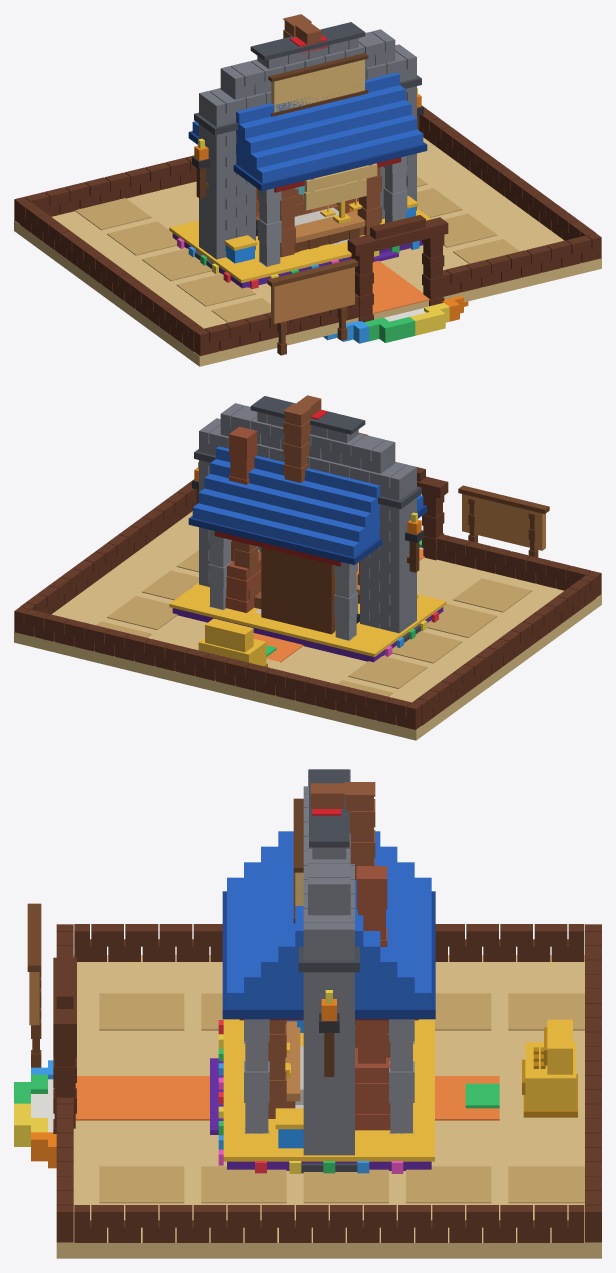
Rendered from Lobby.fbx.
The picture shows the model from 3 angles, top to bottom: view 1: azimuth 30°, elevation 25°; view 2: azimuth 150°, elevation 25°; view 3: azimuth 270°, elevation 25°; orthographic projection. The views are drawn at different scales.
Parts seen in each view (by area): view 1: Parcela_Exhibicion_Borde.003, Parcela_Exhibicion_Terreno, Arco_Entrada_Ladrillo.003, Tienda_Forja_Techo.001, Lugares, Parcela_Exhibicion_Cartel.002, Tienda_Forja_Piedra, Ruleta_Mascotas_EscenarioBorde, Arco_Entrada_Cartel.003, Arco_Entrada_Zocalo, Puesto_Vender_Ladrillo, Tienda_Forja_TechoBorde.001 (+14 smaller); view 2: Parcela_Exhibicion_Borde.003, Parcela_Exhibicion_Terreno, Arco_Entrada_Ladrillo.003, Tienda_Forja_Techo.001, Lugares, Tienda_Forja_Madera.001, Ruleta_Mascotas_EscenarioBorde, Tienda_Forja_Piedra, Tienda_Forja_Ladrillo.001, Parcela_Exhibicion_Cartel.002, Ruleta_Mascotas_Ladrillo.002, Parcela_Exhibicion_Caja (+7 smaller); view 3: Parcela_Exhibicion_Terreno, Parcela_Exhibicion_Borde.003, Lugares, Tienda_Forja_Techo.001, Arco_Entrada_Ladrillo.003, Ruleta_Mascotas_EscenarioBorde, Parcela_Exhibicion_Camino, Tienda_Forja_Ladrillo.001, Tienda_Forja_Piedra, Parcela_Exhibicion_Caja, Arco_Entrada_Zocalo, Ruleta_Mascotas_Ladrillo.002 (+12 smaller).
Part boxes in pixels (<box>): Parcela_Exhibicion_Borde.003: <box>14,107,601,356</box>; Parcela_Exhibicion_Terreno: <box>14,137,601,366</box>; Arco_Entrada_Ladrillo.003: <box>199,29,416,259</box>; Tienda_Forja_Techo.001: <box>192,72,423,183</box>; Lugares: <box>75,176,519,322</box>; Parcela_Exhibicion_Cartel.002: <box>271,267,354,323</box>; Tienda_Forja_Piedra: <box>258,156,407,266</box>; Ruleta_Mascotas_EscenarioBorde: <box>169,208,431,283</box>; Arco_Entrada_Cartel.003: <box>271,59,364,112</box>; Arco_Entrada_Zocalo: <box>194,22,421,268</box>; Puesto_Vender_Ladrillo: <box>256,167,381,257</box>; Tienda_Forja_TechoBorde.001: <box>188,131,427,191</box>; Parcela_Exhibicion_Borde.003: <box>14,464,601,729</box>; Parcela_Exhibicion_Terreno: <box>14,511,601,740</box>; Arco_Entrada_Ladrillo.003: <box>199,403,416,633</box>; Tienda_Forja_Techo.001: <box>192,446,423,556</box>; Lugares: <box>96,546,531,696</box>; Tienda_Forja_Madera.001: <box>261,547,334,634</box>; Ruleta_Mascotas_EscenarioBorde: <box>169,582,446,656</box>; Tienda_Forja_Piedra: <box>208,529,357,640</box>; Tienda_Forja_Ladrillo.001: <box>225,426,261,612</box>; Parcela_Exhibicion_Cartel.002: <box>462,494,545,550</box>; Ruleta_Mascotas_Ladrillo.002: <box>254,395,321,609</box>; Parcela_Exhibicion_Caja: <box>198,618,266,665</box>; Parcela_Exhibicion_Terreno: <box>56,955,601,1258</box>; Parcela_Exhibicion_Borde.003: <box>53,924,601,1242</box>; Lugares: <box>99,993,584,1203</box>; Tienda_Forja_Techo.001: <box>227,831,431,1008</box>; Arco_Entrada_Ladrillo.003: <box>303,769,354,1155</box>; Ruleta_Mascotas_EscenarioBorde: <box>223,1019,434,1161</box>; Parcela_Exhibicion_Camino: <box>75,1076,499,1120</box>; Tienda_Forja_Ladrillo.001: <box>355,866,390,1130</box>; Tienda_Forja_Piedra: <box>244,1019,414,1133</box>; Parcela_Exhibicion_Caja: <box>525,1019,576,1110</box>; Arco_Entrada_Zocalo: <box>298,769,359,1173</box>; Ruleta_Mascotas_Ladrillo.002: <box>310,782,375,1047</box>.
Bounding box in the file's own units: 11.2 × 6.27 × 9.66.
